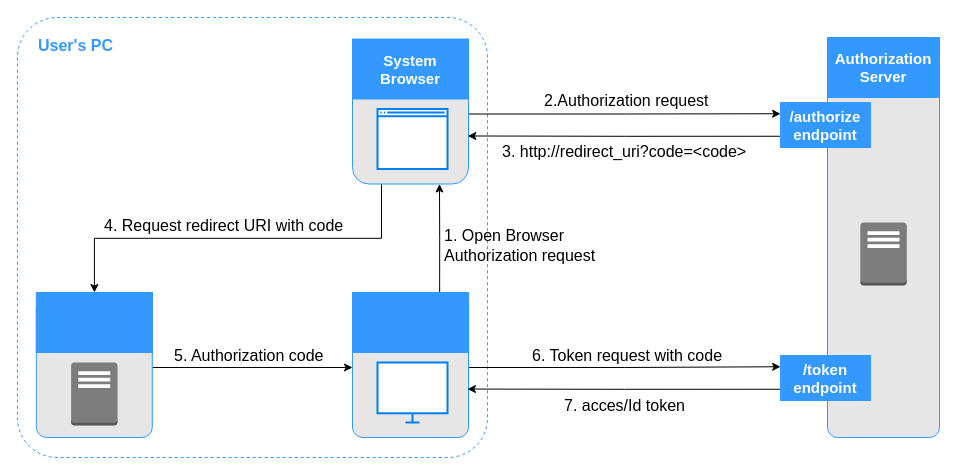
This 957x475 diagram has some shape labels left out. Each missing label, with the centre of its shape:
"Desktop Application" goes at point 410,322.
"Localhost Server" goes at point 93,322.
